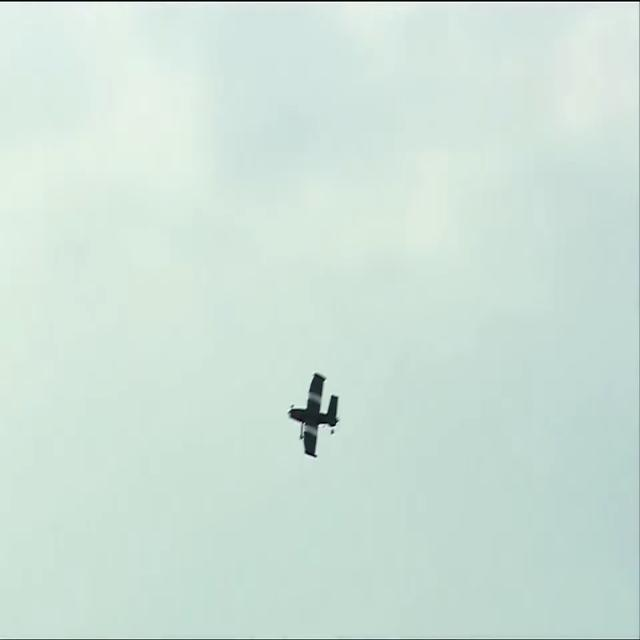iha: (287, 404, 340, 426)
